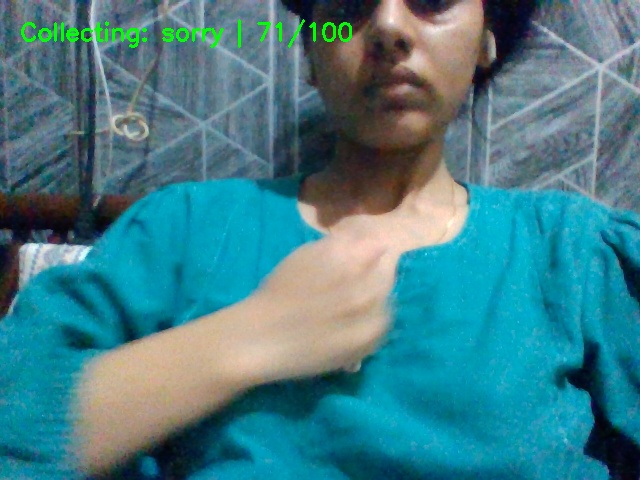sorry: (230, 224, 445, 412)
